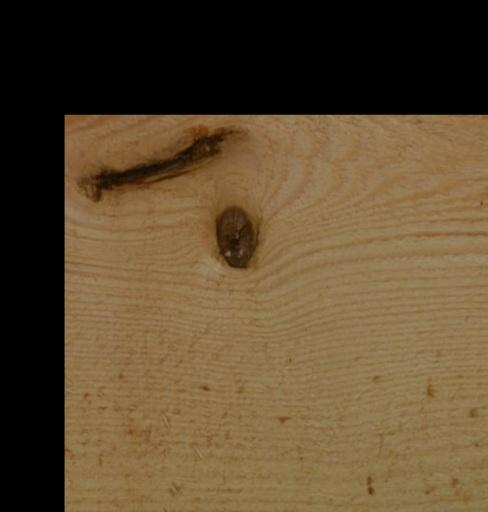dry_knot: (212, 203, 257, 268)
